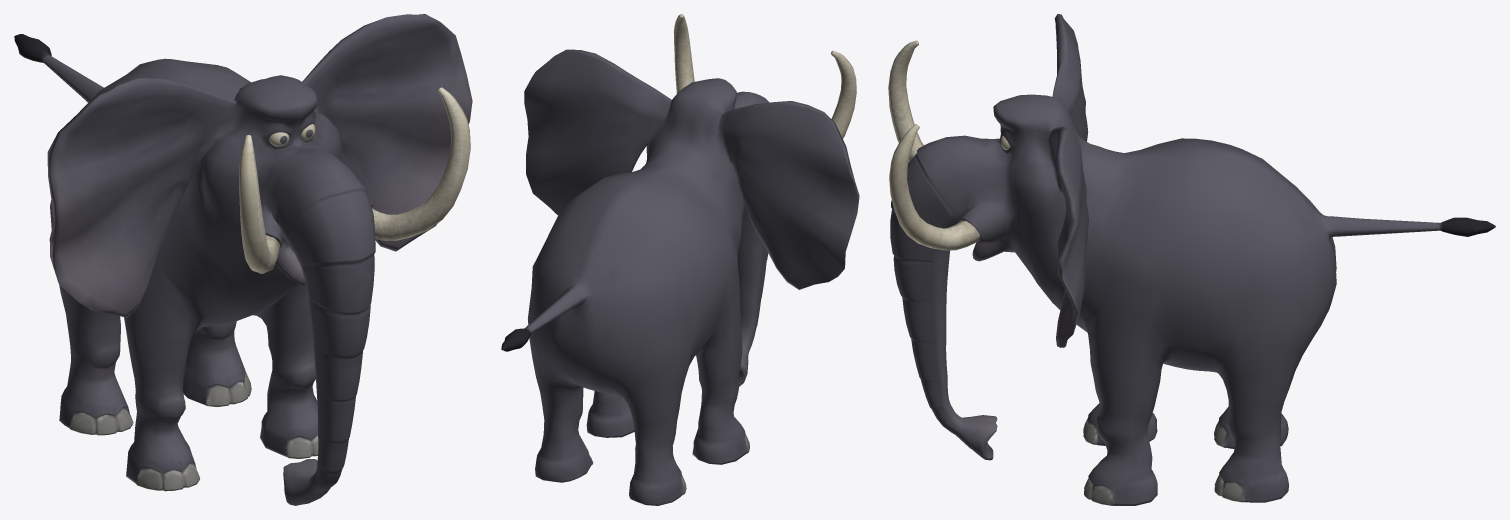
File: voi.fbx
3 renders of one model, left to right at view 1: azimuth 30°, elevation 25°; view 2: azimuth 150°, elevation 25°; view 3: azimuth 270°, elevation 25°, orthographic. The views are drawn at different scales.
Parts seen in each view (by area): view 1: voi1; view 2: voi1; view 3: voi1.
Boxes of the visible parts, bbox=[...] form: voi1: bbox=[14, 14, 472, 505]; voi1: bbox=[501, 14, 859, 505]; voi1: bbox=[888, 14, 1495, 505].
Size of the model in its own units: 44.96 by 44.67 by 63.52.
